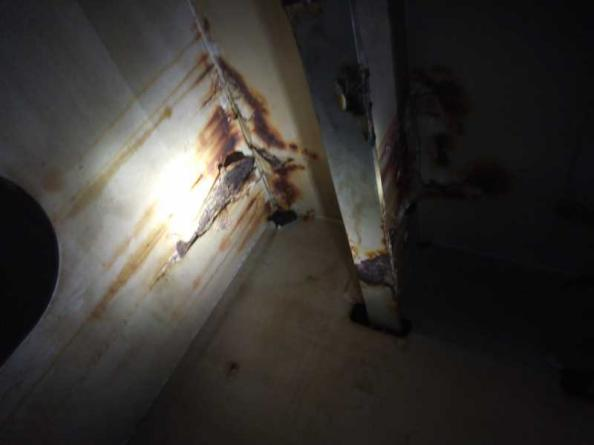corrosion: (60, 77, 175, 210), (196, 62, 287, 163), (180, 151, 258, 259), (87, 222, 164, 326), (252, 141, 322, 223), (372, 123, 422, 218), (180, 29, 239, 91), (343, 240, 407, 290)
